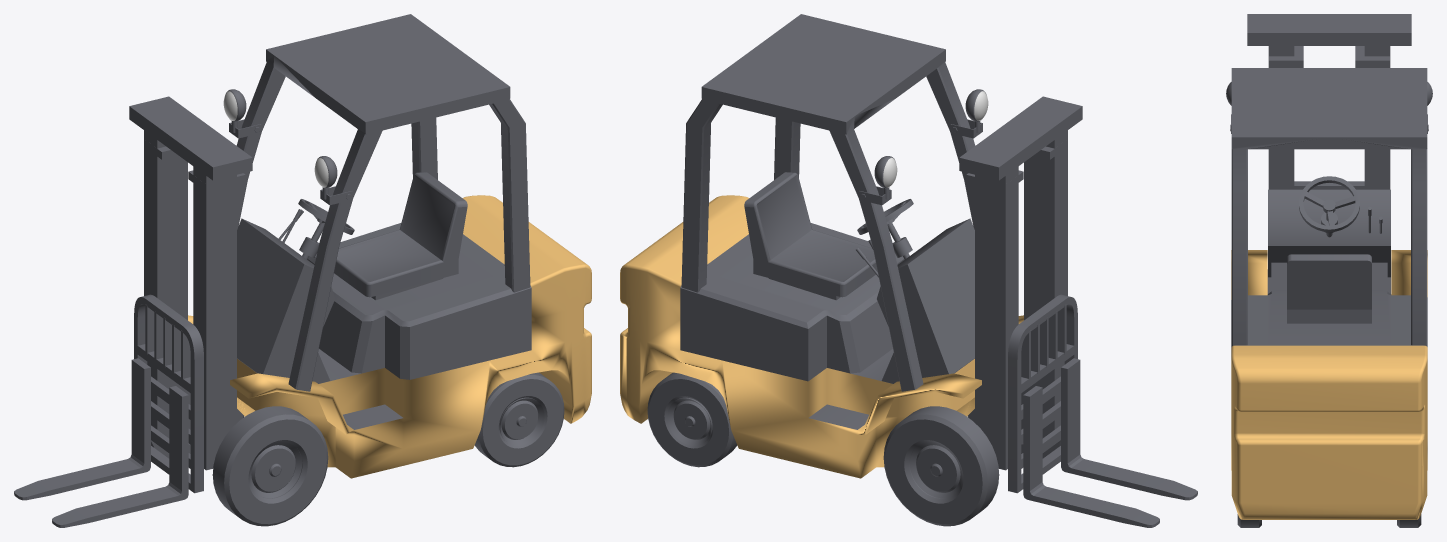
Rendered from forklift.glb.
3 views of the same model, side by side, from view 1: azimuth 30°, elevation 25°; view 2: azimuth 150°, elevation 25°; view 3: azimuth 270°, elevation 25° (orthographic).
Parts seen in each view (by area): view 1: Roof, Cube_3_2, Cube_3, Cube_12_2_2, Panel, Tube, Cube_13_2, Cube_4, Cube_12, Tube_2, Cube_6, Sweep (+3 smaller); view 2: Roof, Cube_3_2, Cube_3, Cube_12_2_2, Panel, Tube, Cube_13_2, Cube_4, Cube_12, Tube_2, Cube_6, Sweep (+3 smaller); view 3: Cube_3_2, Roof, Panel, Cube_3, Cube_12, Cube_6, Cube_12_2_2, Tube_3, Cube_4, Cube_13_3, Sweep, Tube_2.
Boxes of the visible parts, <box> form: Roof: <box>236,14,530,391</box>; Cube_3_2: <box>188,195,591,478</box>; Cube_3: <box>307,223,531,379</box>; Cube_12_2_2: <box>144,130,236,470</box>; Panel: <box>237,218,334,383</box>; Tube: <box>151,406,328,526</box>; Cube_13_2: <box>14,358,188,527</box>; Cube_4: <box>334,229,458,297</box>; Cube_12: <box>129,96,252,180</box>; Tube_2: <box>474,372,564,467</box>; Cube_6: <box>399,172,467,269</box>; Sweep: <box>134,294,203,493</box>; Roof: <box>681,14,975,391</box>; Cube_3_2: <box>620,195,1023,478</box>; Cube_3: <box>680,223,904,381</box>; Cube_12_2_2: <box>975,130,1067,470</box>; Panel: <box>877,218,974,383</box>; Tube: <box>883,406,1060,526</box>; Cube_13_2: <box>1023,358,1197,527</box>; Cube_4: <box>753,229,877,297</box>; Cube_12: <box>959,96,1082,180</box>; Tube_2: <box>647,372,737,467</box>; Cube_6: <box>744,172,812,269</box>; Sweep: <box>1008,294,1077,493</box>; Cube_3_2: <box>1231,250,1427,519</box>; Roof: <box>1231,68,1427,346</box>; Panel: <box>1268,189,1390,293</box>; Cube_3: <box>1231,290,1427,346</box>; Cube_12: <box>1247,14,1411,45</box>; Cube_6: <box>1287,254,1371,309</box>; Cube_12_2_2: <box>1268,46,1390,189</box>; Tube_3: <box>1299,176,1359,231</box>; Cube_4: <box>1287,309,1371,323</box>; Cube_13_3: <box>1269,46,1389,67</box>; Sweep: <box>1294,181,1364,189</box>; Tube_2: <box>1237,514,1421,527</box>.
Bounding box in the file's own units: 3.04 × 2.2 × 1.09.
